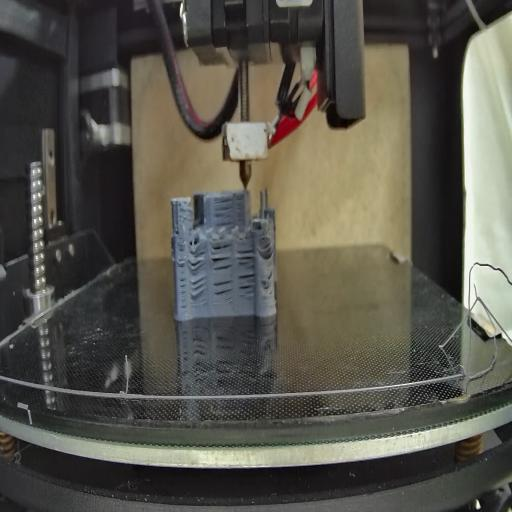cracks: (211, 194, 236, 226), (210, 241, 234, 273), (211, 278, 236, 308), (178, 250, 188, 310), (188, 249, 207, 273), (236, 242, 255, 266), (190, 274, 207, 300), (238, 274, 256, 296), (264, 242, 275, 261), (264, 268, 274, 283), (174, 223, 180, 240)
